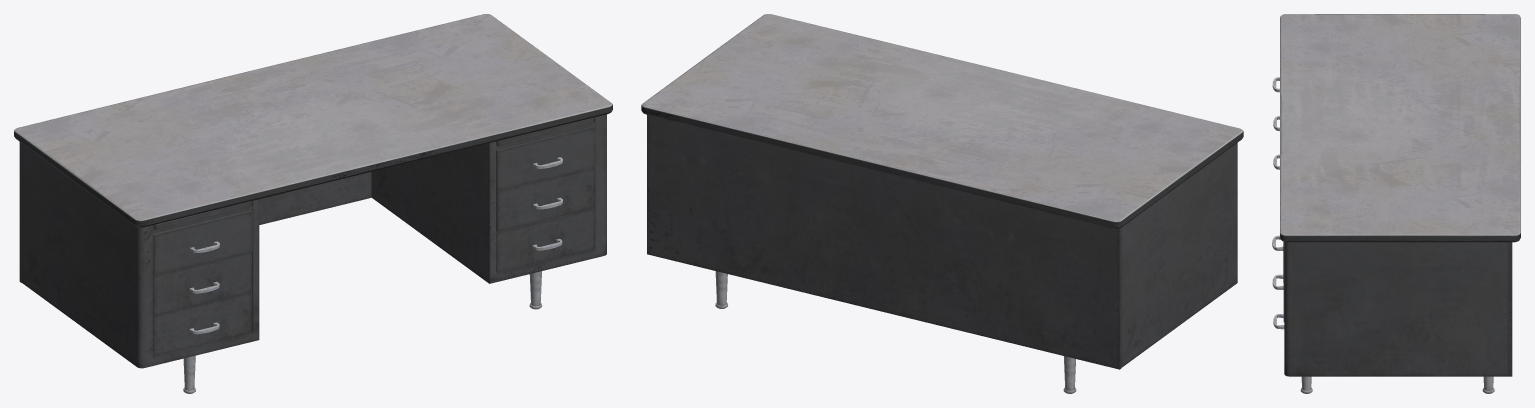
File: metal_office_desk.glb
3 renders of one model, left to right at view 1: azimuth 30°, elevation 25°; view 2: azimuth 150°, elevation 25°; view 3: azimuth 270°, elevation 25°, orthographic. The views are drawn at different scales.
Parts seen in each view (by area): view 1: metal_office_desk, metal_office_desk_drawer_04, metal_office_desk_drawer_01, metal_office_desk_drawer_02, metal_office_desk_drawer_03, metal_office_desk_drawer_06, metal_office_desk_drawer_05, metal_office_desk_tray_01, metal_office_desk_tray_02; view 2: metal_office_desk; view 3: metal_office_desk.
Boxes of the visible parts, <box> form: metal_office_desk: <box>14,14,612,393</box>; metal_office_desk_drawer_04: <box>153,210,252,275</box>; metal_office_desk_drawer_01: <box>496,126,595,191</box>; metal_office_desk_drawer_02: <box>496,167,595,231</box>; metal_office_desk_drawer_03: <box>496,208,594,272</box>; metal_office_desk_drawer_06: <box>153,292,251,356</box>; metal_office_desk_drawer_05: <box>153,252,251,315</box>; metal_office_desk_tray_01: <box>153,201,251,230</box>; metal_office_desk_tray_02: <box>496,117,594,146</box>; metal_office_desk: <box>641,14,1243,393</box>; metal_office_desk: <box>1280,14,1520,393</box>.
Size of the model in its own units: 2 by 0.7875 by 0.9472.
1 material, 1 textured.
